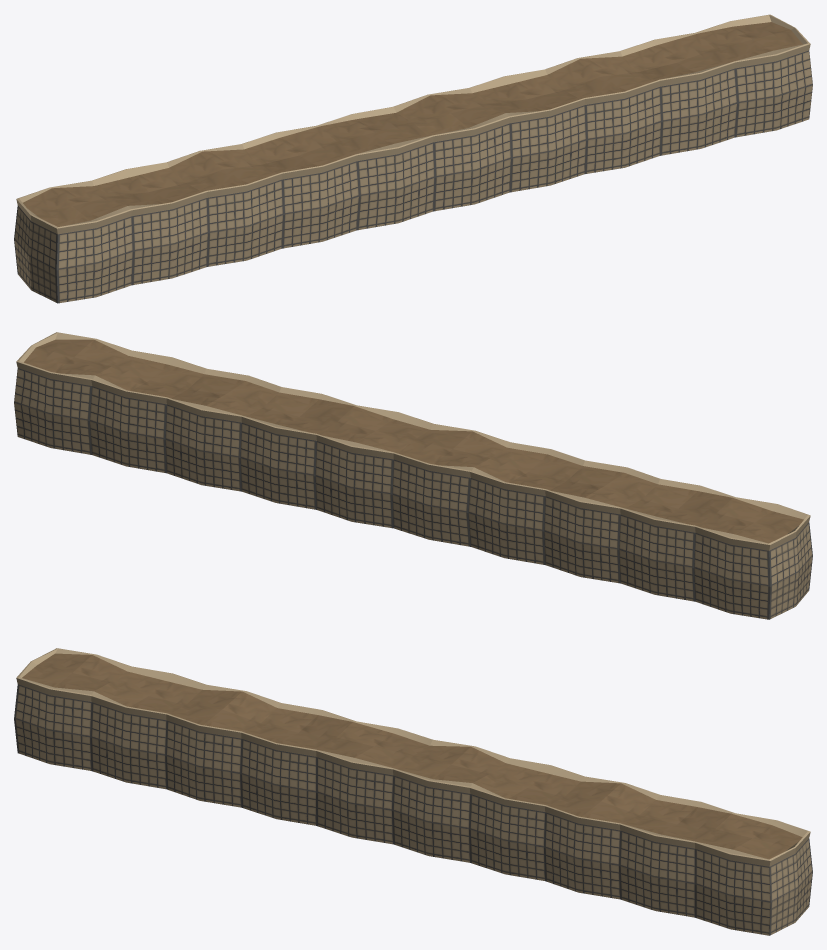
File: SM_Prop_Barrier_Base_Row_03.glb
3 renders of one model, top to bottom at view 1: azimuth 30°, elevation 25°; view 2: azimuth 150°, elevation 25°; view 3: azimuth 330°, elevation 25°, orthographic.
Parts seen in each view (by area): view 1: SM_Prop_Barrier_Base_Row_03; view 2: SM_Prop_Barrier_Base_Row_03; view 3: SM_Prop_Barrier_Base_Row_03.
Part boxes in pixels (x1=…): SM_Prop_Barrier_Base_Row_03: x1=14, y1=14, x2=812, y2=303; SM_Prop_Barrier_Base_Row_03: x1=14, y1=332, x2=812, y2=619; SM_Prop_Barrier_Base_Row_03: x1=14, y1=648, x2=812, y2=935.
Bounding box in the file's own units: 10.96 × 1.05 × 1.23.
1 material, 1 textured.
